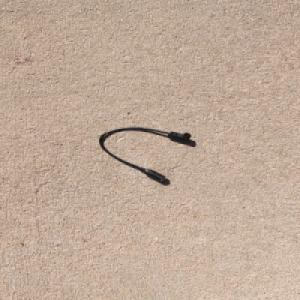Wire: (98, 126, 192, 182)
